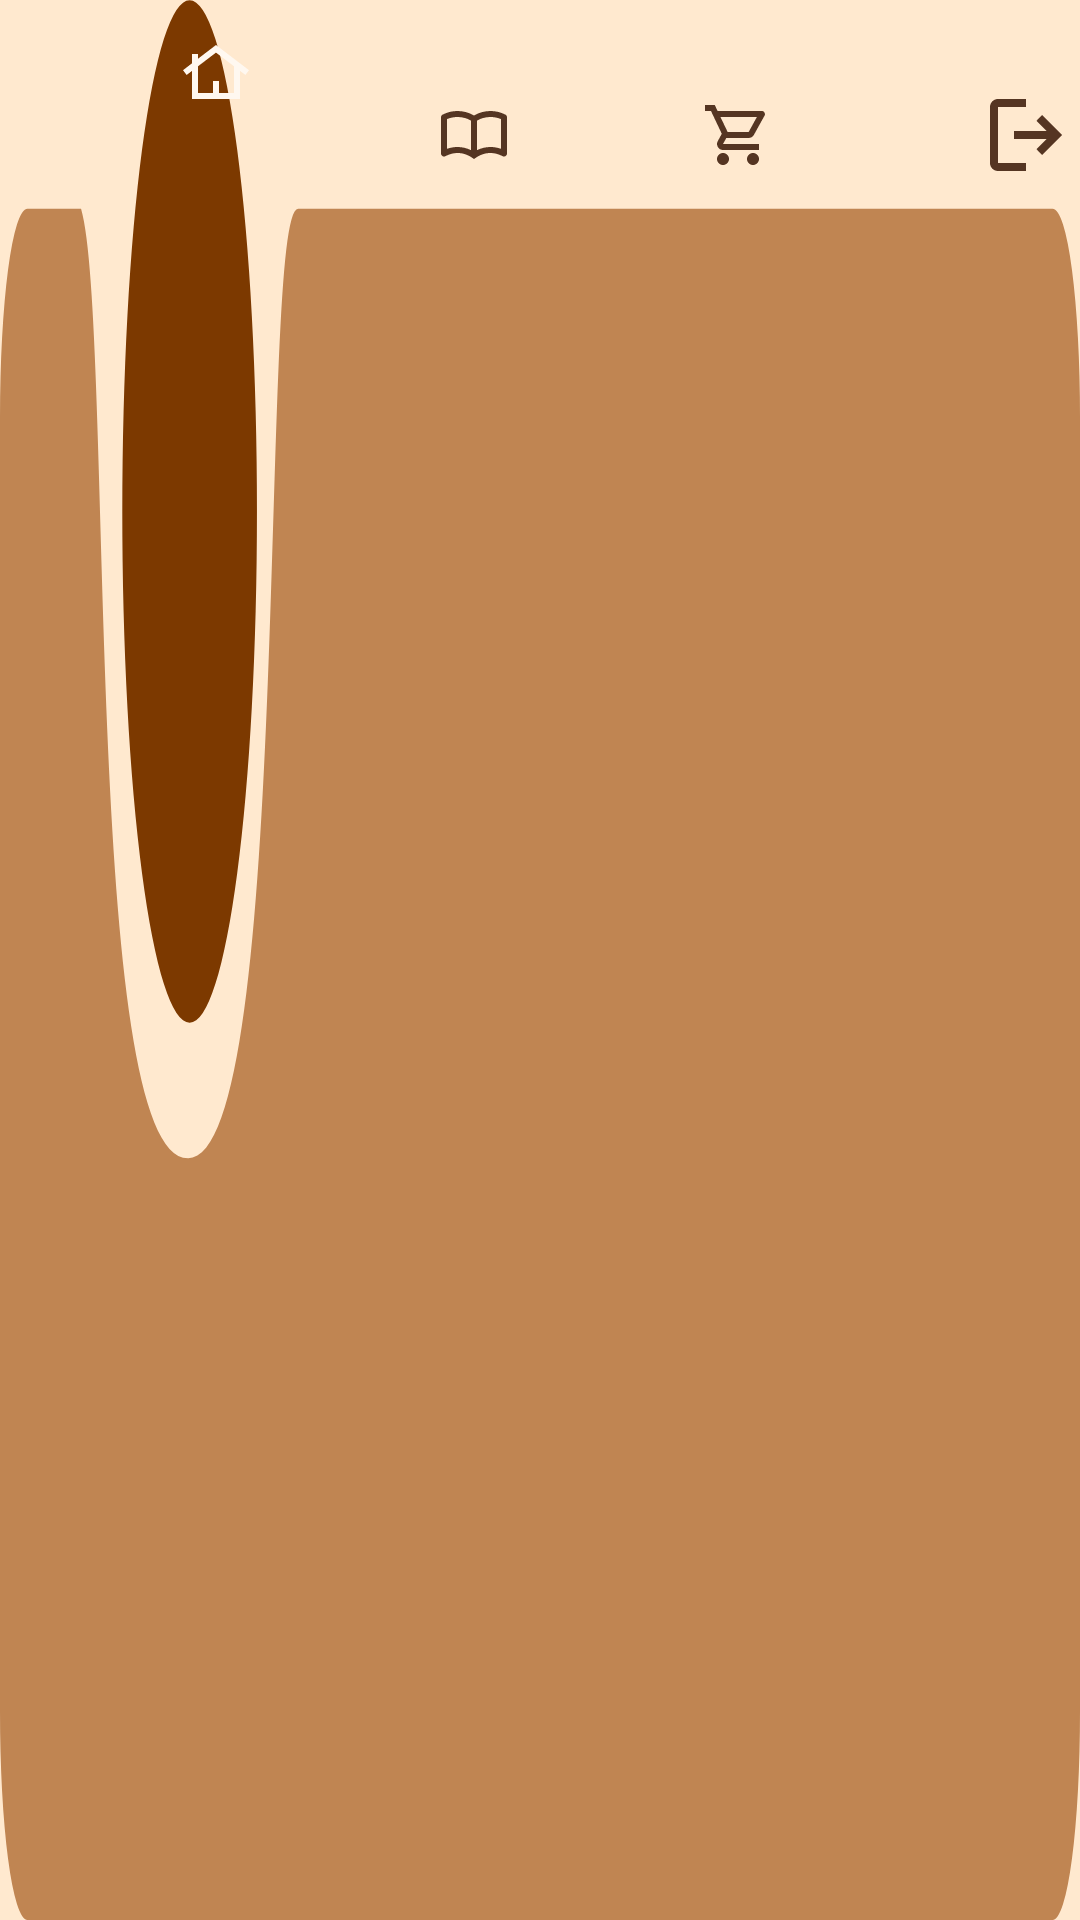

Icon click points for this 1080w x 1920h phone screenshot, format point (x, y):
Books: point (474, 135)
Home: point (216, 72)
Stores: point (735, 135)
